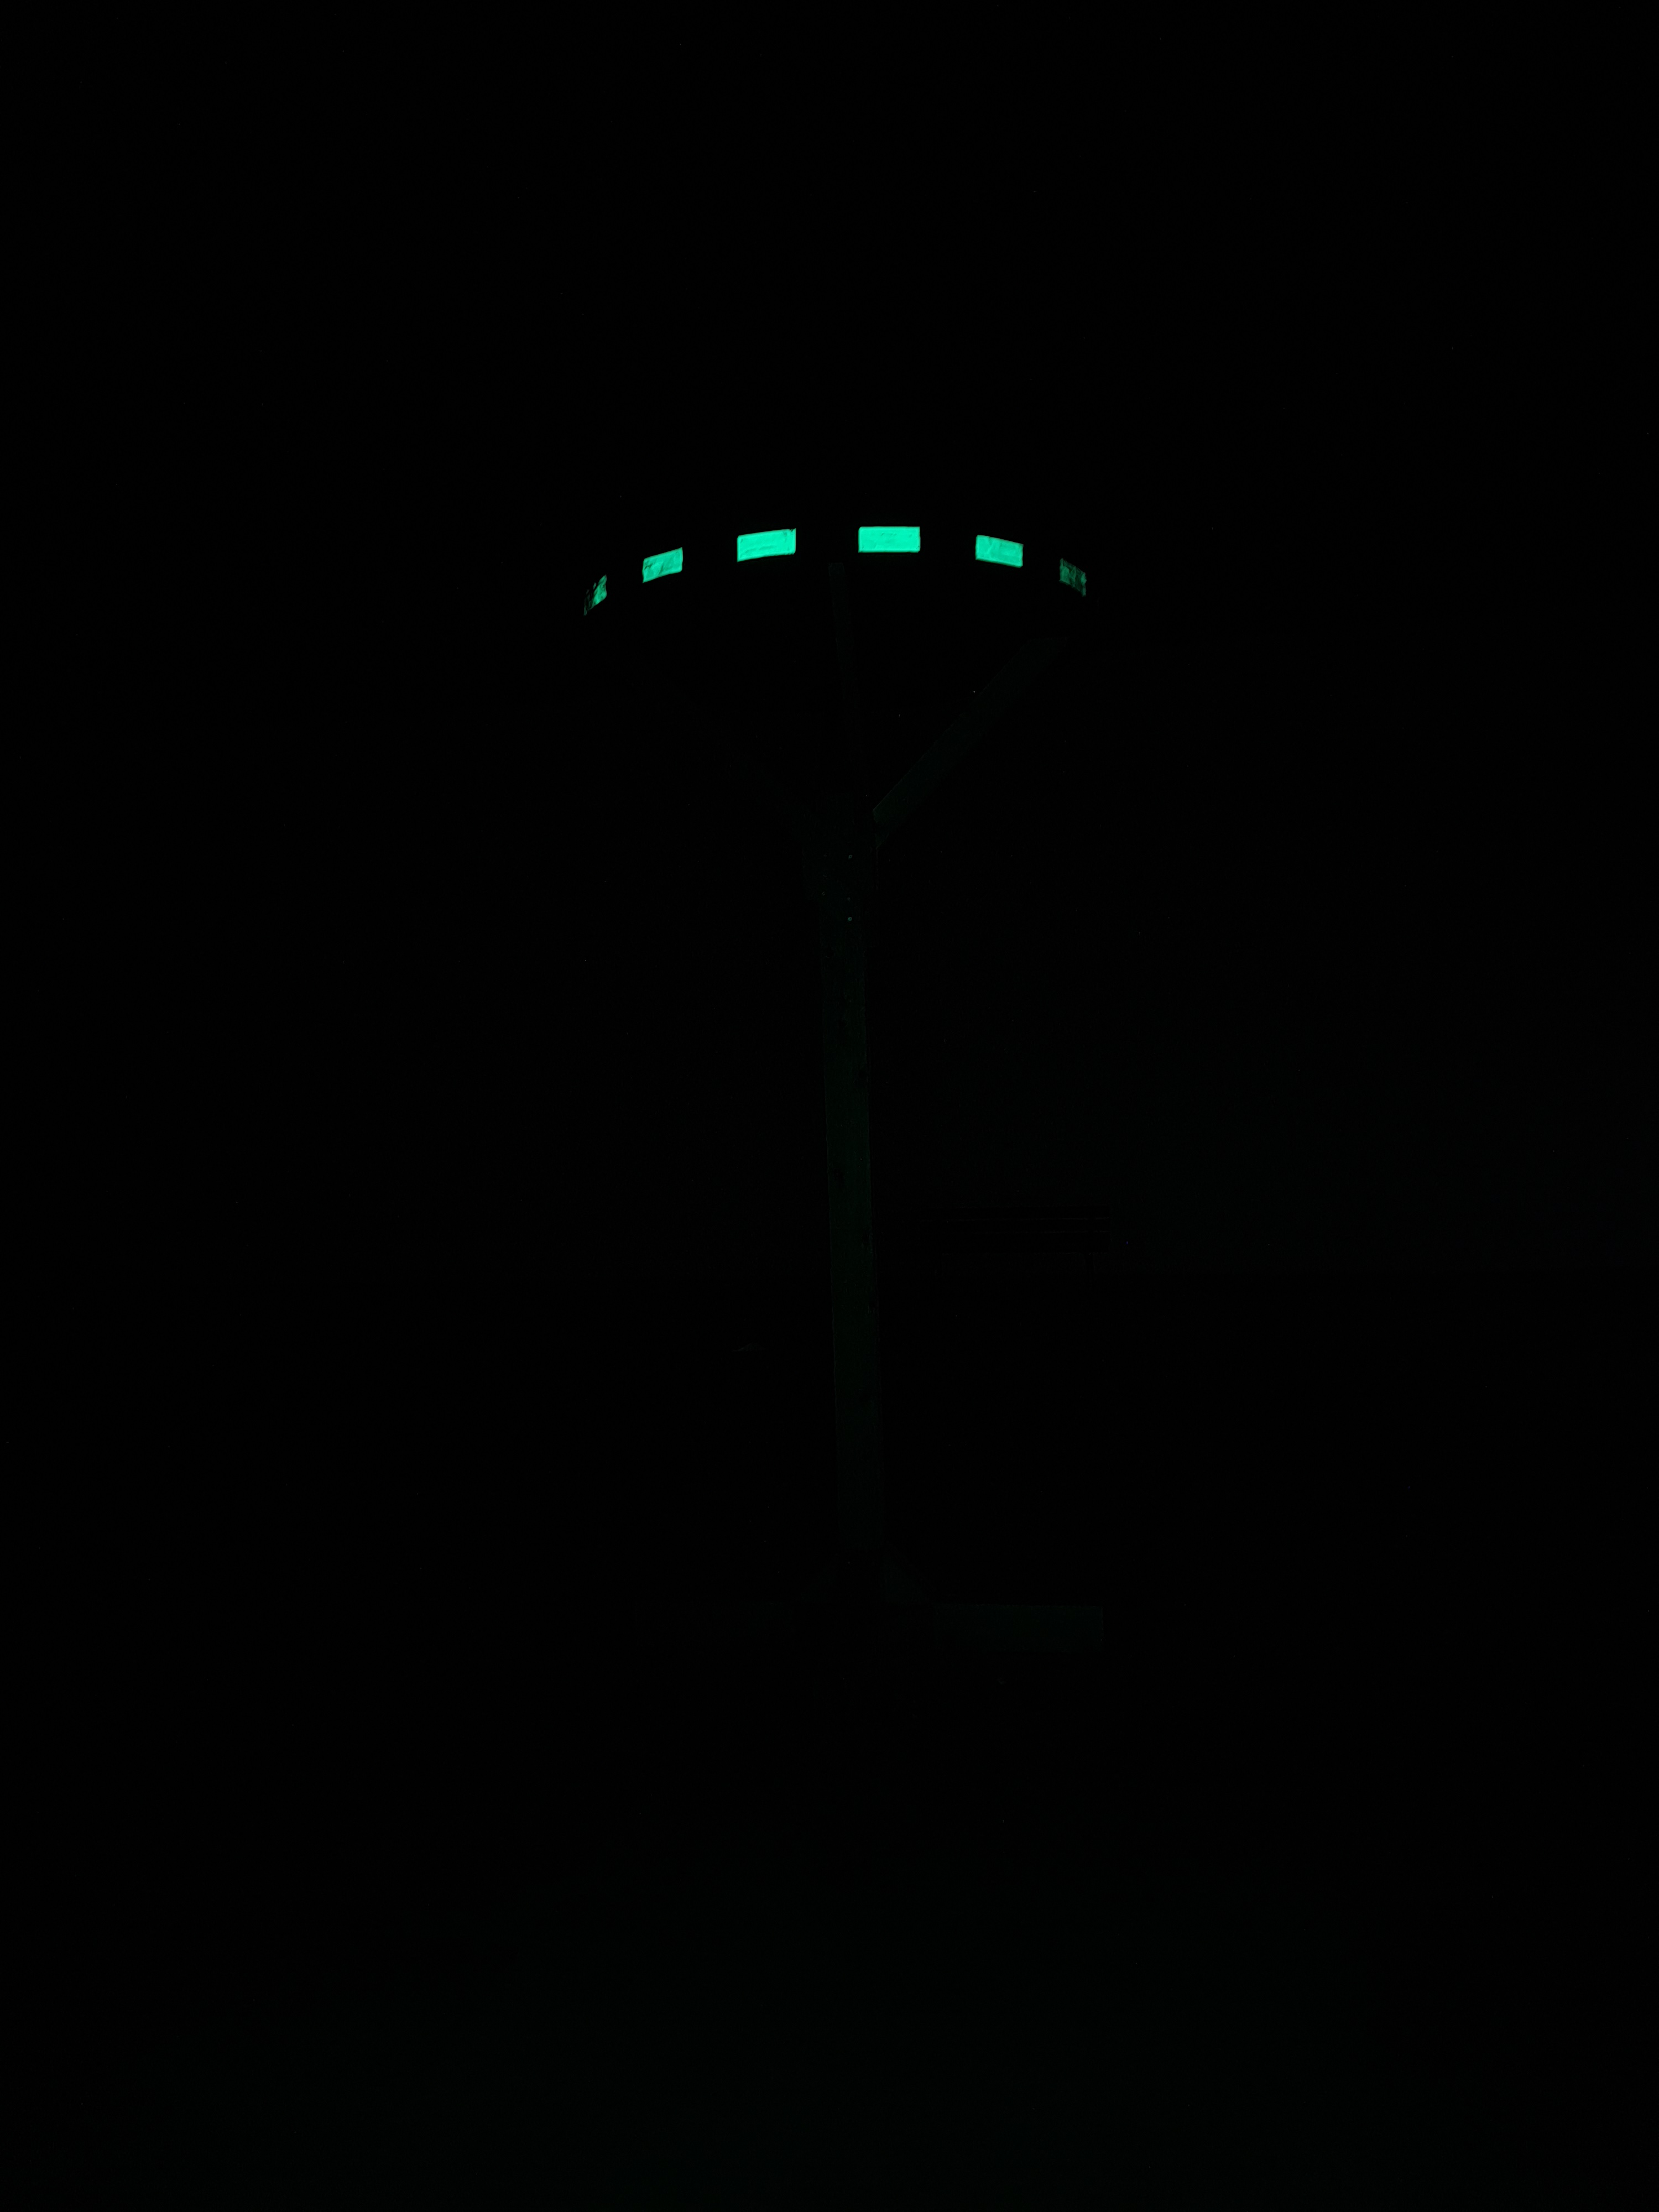hoop: (575, 523, 1100, 625)
